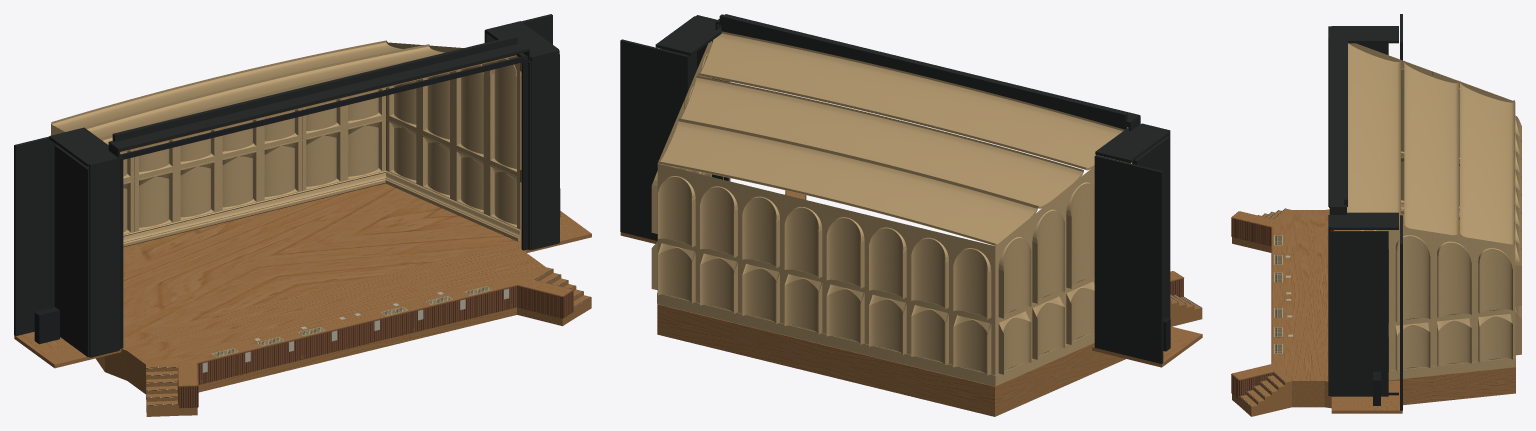
3 views of the same model, side by side, from view 1: azimuth 30°, elevation 25°; view 2: azimuth 150°, elevation 25°; view 3: azimuth 270°, elevation 25° (orthographic). The views are drawn at different scales.
Parts seen in each view (by area): view 1: bake_stage, bake_stage_detail; view 2: bake_stage; view 3: bake_stage, bake_stage_detail.
Part boxes in pixels (x1,y1,x2,y2): bake_stage: [14, 14, 591, 416]; bake_stage_detail: [146, 268, 590, 405]; bake_stage: [620, 14, 1202, 416]; bake_stage: [1231, 14, 1521, 416]; bake_stage_detail: [1239, 208, 1293, 406].
Size of the model in its own units: 23.4 by 9.9 by 12.51.
19 materials, 2 textured.
